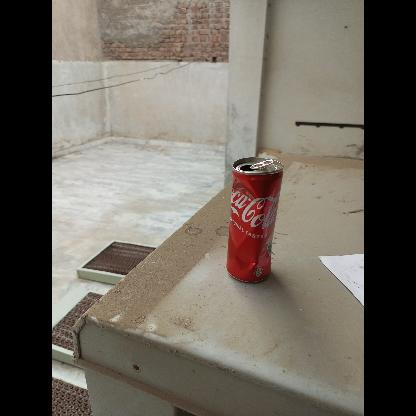Dent_Can: (232, 179, 274, 280), (232, 187, 239, 205)
Lid_Open: (240, 158, 274, 174)
Tin_Can: (226, 155, 286, 287)
